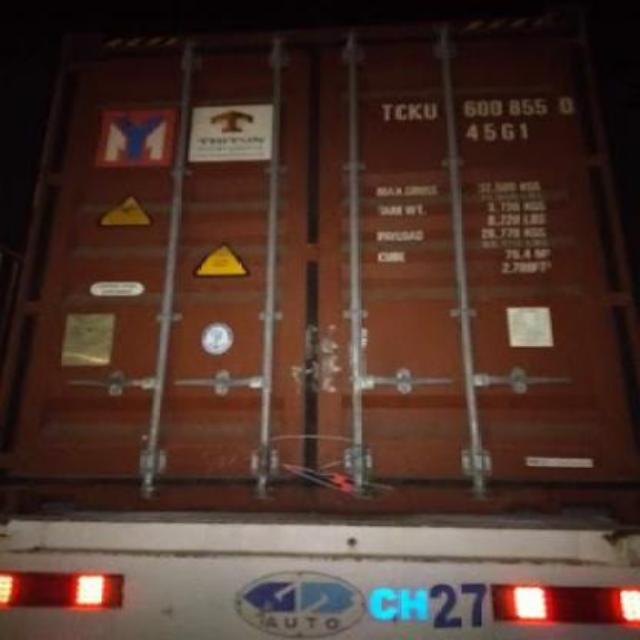0: (556, 94, 576, 116), (488, 96, 506, 120), (476, 95, 488, 118)
5: (534, 94, 550, 118), (522, 95, 534, 118)
6: (460, 98, 476, 118)
8: (508, 96, 522, 120)
C: (394, 100, 408, 124)
K: (408, 100, 424, 124)
T: (378, 100, 396, 124)
U: (422, 98, 438, 125)
